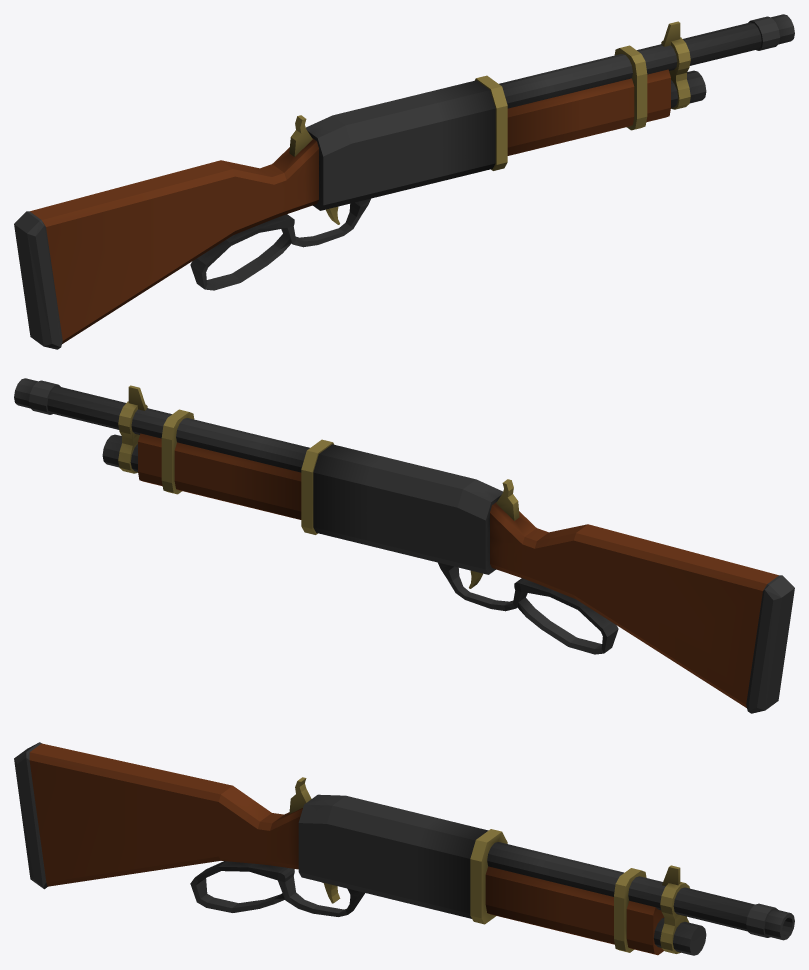
File: v-lever-rifles-short.glb
3 views of the same model, one above another, from view 1: azimuth 30°, elevation 25°; view 2: azimuth 150°, elevation 25°; view 3: azimuth 330°, elevation 25° (orthographic).
Parts seen in each view (by area): view 1: front (×3), receiver (×3), stock (×2), grip; view 2: front (×3), receiver (×3), stock (×2), grip; view 3: front (×3), receiver (×3), stock (×2), grip.
Boxes of the visible parts, left/top/right/bottom form: front (×3): left=366, top=14, right=794, bottom=195; receiver (×3): left=151, top=107, right=385, bottom=289; stock (×2): left=14, top=179, right=165, bottom=349; grip: left=190, top=253, right=217, bottom=290; front (×3): left=14, top=378, right=442, bottom=559; receiver (×3): left=423, top=471, right=657, bottom=653; stock (×2): left=643, top=543, right=794, bottom=713; grip: left=591, top=617, right=618, bottom=654; front (×3): left=360, top=804, right=794, bottom=955; receiver (×3): left=148, top=770, right=378, bottom=916; stock (×2): left=14, top=742, right=162, bottom=889; grip: left=190, top=866, right=214, bottom=907.
Size of the model in its own units: 0.774 by 0.1634 by 0.0458.
